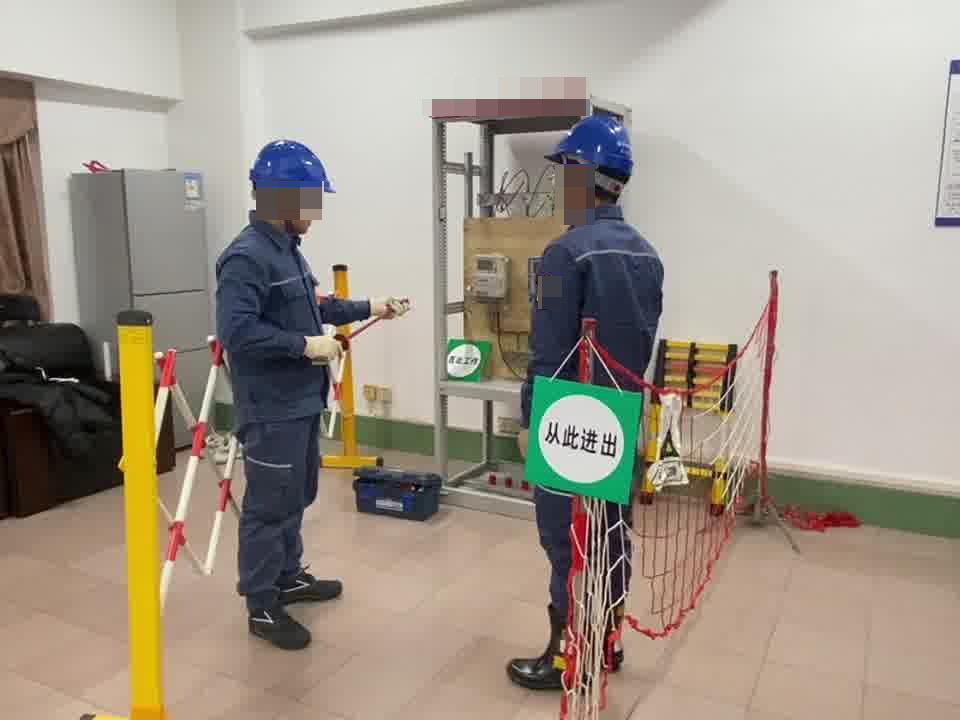downsuit: (234, 426, 324, 600), (529, 480, 632, 621)
halt: (542, 113, 637, 220), (247, 141, 334, 234)
inear: (271, 182, 309, 231), (560, 159, 591, 211)
intosign: (517, 370, 646, 509)
person: (207, 137, 410, 648), (499, 109, 675, 691)
shoe: (507, 609, 628, 690)
sleeve: (529, 274, 562, 310)
testrod: (331, 295, 411, 356)
upsuit: (518, 208, 668, 434), (213, 224, 369, 415)
wglove: (304, 332, 346, 364), (368, 291, 410, 320)
worksign: (442, 333, 493, 388)
